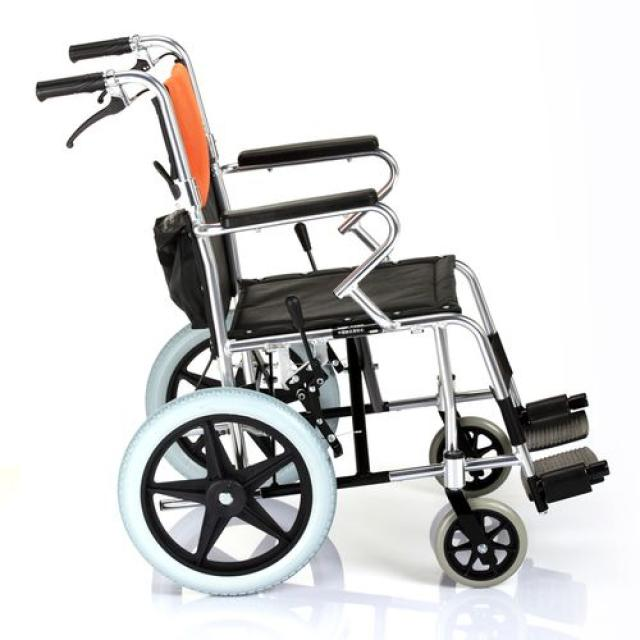wheelchairs: (25, 24, 631, 600)
